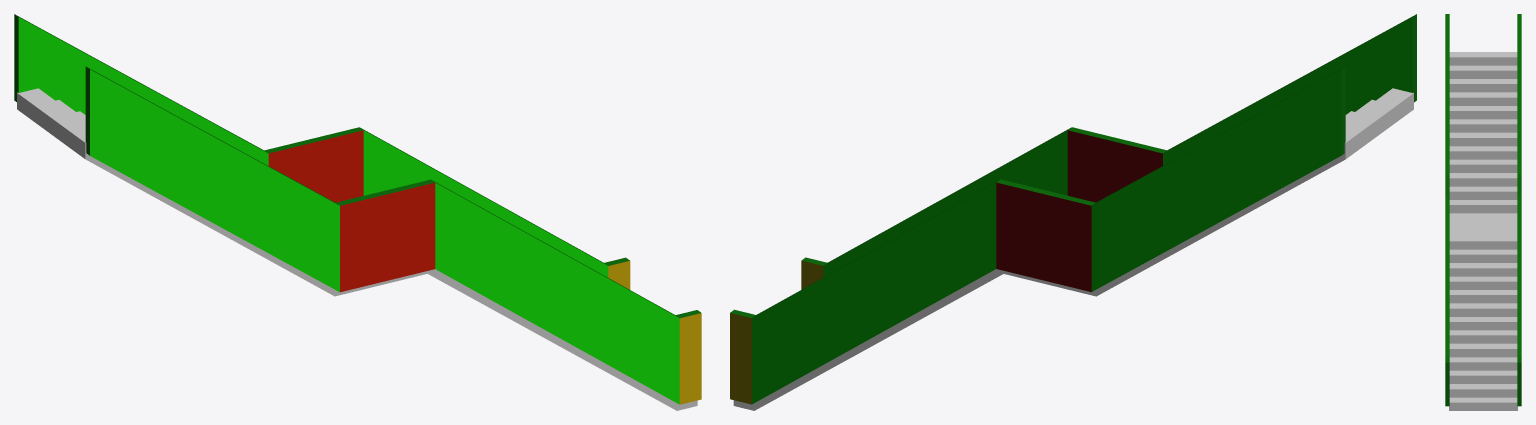
The model's file is scala.fbx.
3 views of the same model, side by side, from view 1: azimuth 30°, elevation 25°; view 2: azimuth 150°, elevation 25°; view 3: azimuth 270°, elevation 25° (orthographic). The views are drawn at different scales.
Visible parts, largest first — view 1: Plane.002, Plane.001, Plane.000; view 2: Plane.001, Plane.002, Plane.000; view 3: Plane.000, Plane.002, Plane.001.
Part boxes in pixels (<box>): Plane.002: <box>85,66,701,404</box>; Plane.001: <box>14,14,630,289</box>; Plane.000: <box>17,88,697,410</box>; Plane.001: <box>730,66,1345,404</box>; Plane.002: <box>801,14,1416,289</box>; Plane.000: <box>733,88,1413,410</box>; Plane.000: <box>1449,52,1517,410</box>; Plane.002: <box>1445,14,1449,406</box>; Plane.001: <box>1517,14,1521,406</box>.
Bounding box in the file's own units: 1482 × 1130 × 317.
